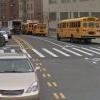Crosswalk: (29, 42, 98, 74)
